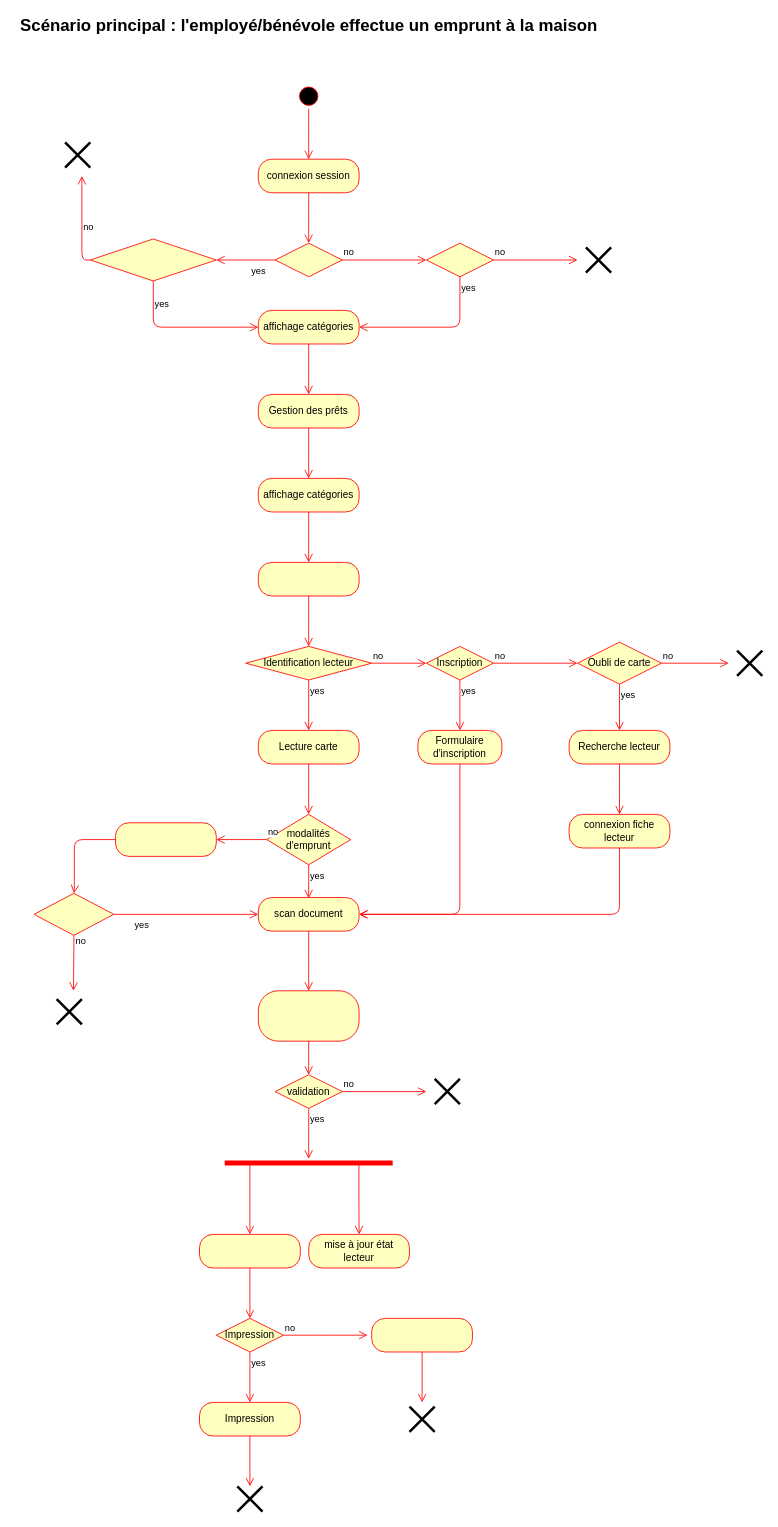
This 778x1527 diagram has some shape labels left out. The box of each missing label's shape, as (x1, y1, x2, y2) in pixels:
affichage et intégration référencement: (257, 990, 359, 1041)
Bénévole: (274, 242, 342, 277)
Employé: (425, 242, 494, 277)
Emprunt à la maison: (257, 562, 359, 596)
Envoi email: (371, 1318, 472, 1352)
génération fiche de prêt: (199, 1234, 300, 1268)
Message d'erreur: (115, 822, 216, 856)
régularisation: (33, 892, 114, 935)
validité permission: (89, 238, 216, 281)
